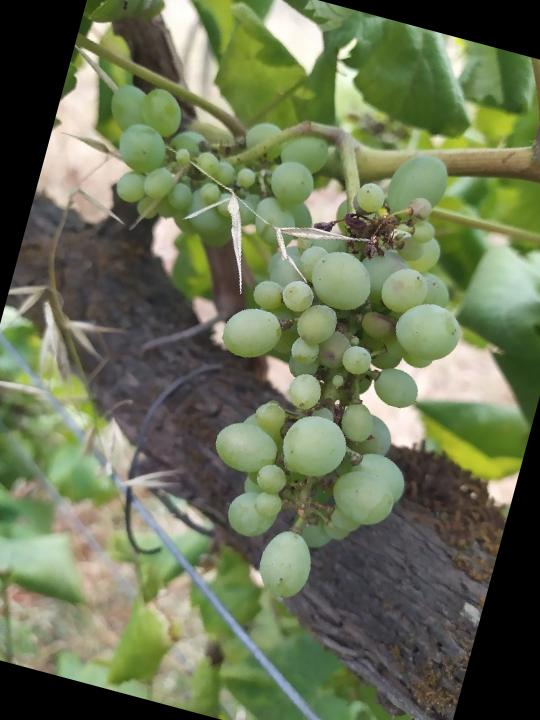grape: (155, 110, 509, 631)
